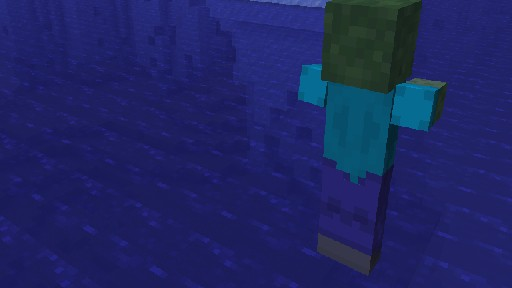zombie: (297, 0, 447, 275)
